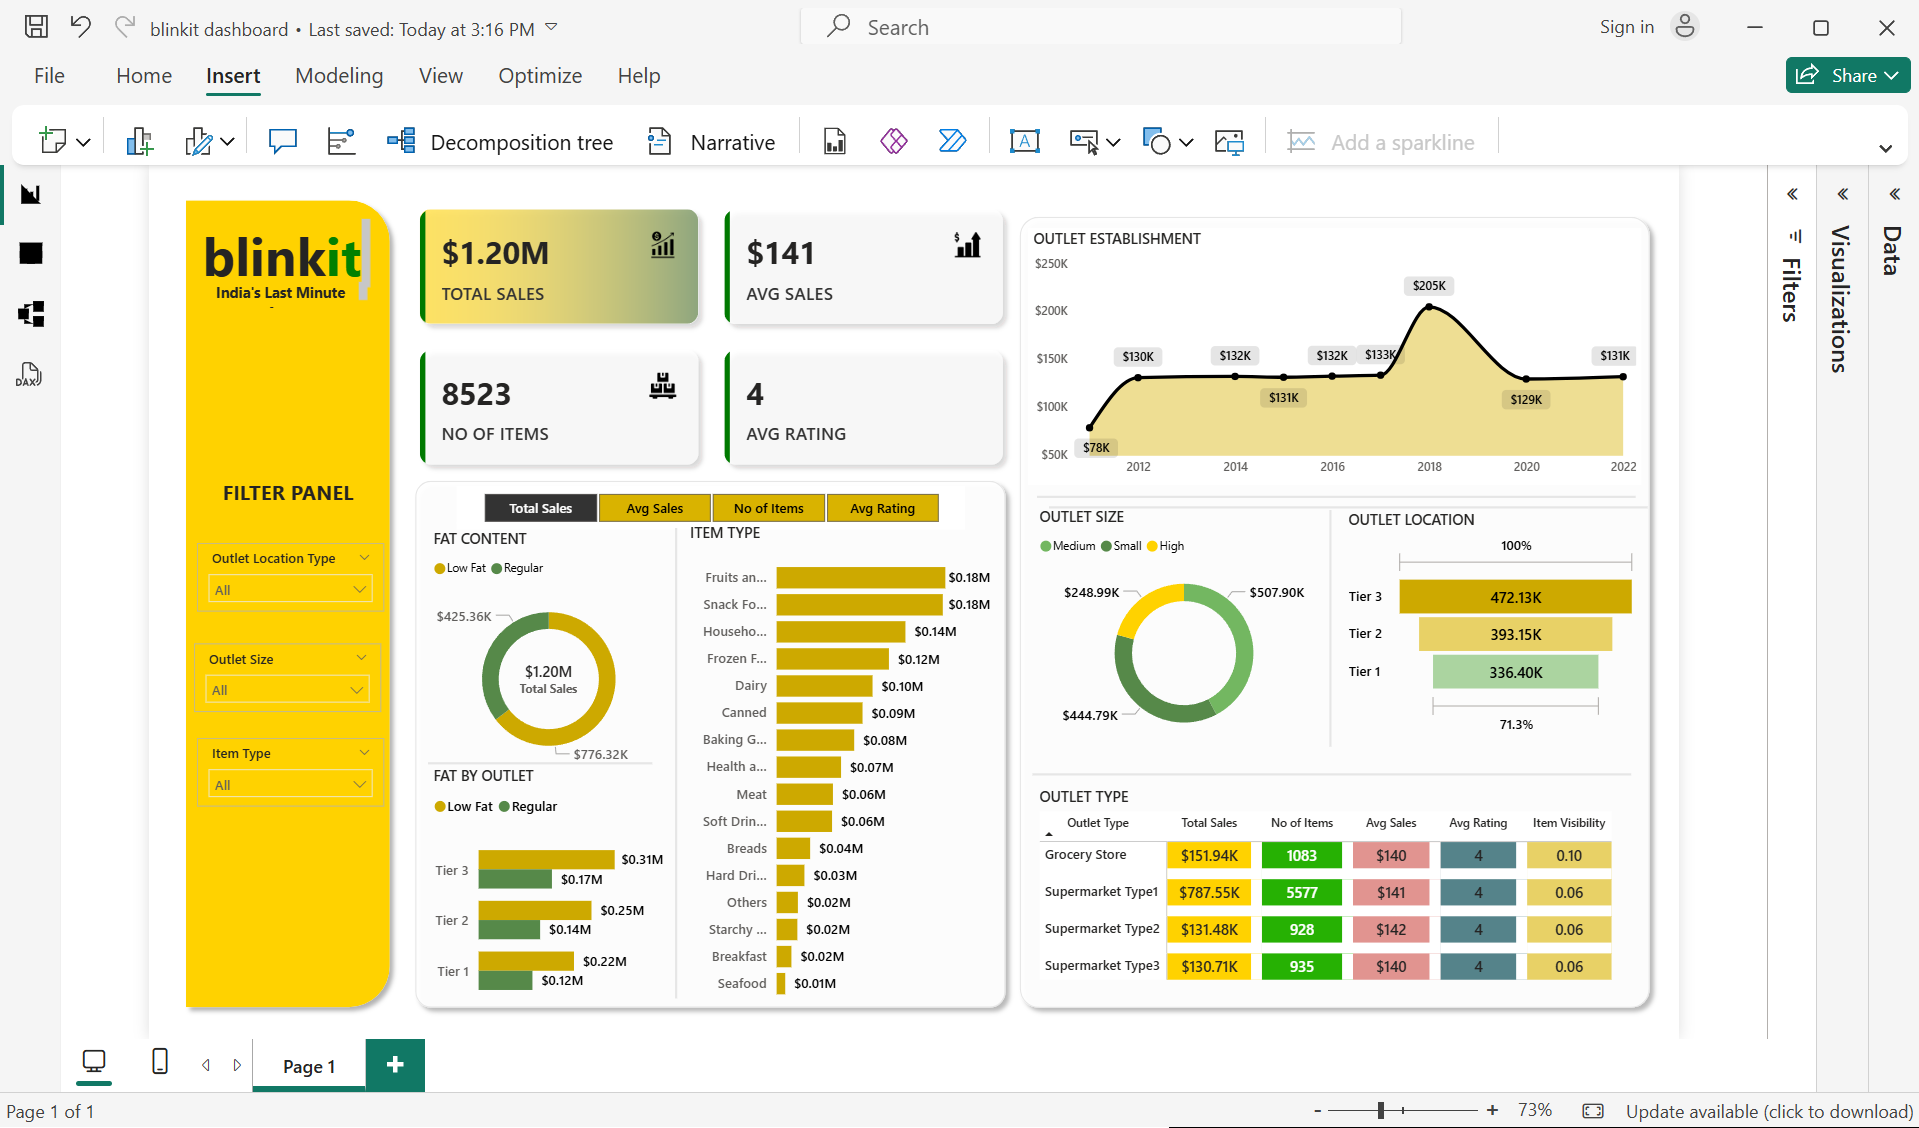

The dashboard page shown, as its layout file describes it:
{"tool":"powerbi","page":{"name":"Page 1","canvas":[1400,800],"ordinal":0},"visuals":[{"type":"shape","box":[24.8,22.7,204.6,756.5],"z":0},{"type":"textbox","box":[44.4,44.4,163.8,73.5],"z":1000},{"type":"textbox","box":[44.4,101,160.7,33.7],"z":2000},{"type":"cardVisual","fields":{"Data":["BlinkIT Grocery Data.Total Sales","BlinkIT Grocery Data.Avg Sales","BlinkIT Grocery Data.No of Items","BlinkIT Grocery Data.Avg Rating"]},"box":[230.2,23.2,569.7,270],"z":3000},{"type":"shape","box":[235.2,279.9,558.1,500.2],"z":4000},{"type":"slicer","title":"FAT CONTENT","fields":{"Values":["BlinkIT Grocery Data.Outlet Location Type"]},"box":[44.4,345.9,171.4,62.8],"z":5000},{"type":"slicer","fields":{"Values":["Metrics 2.Metrics"]},"box":[281.5,293.1,465.4,39.7],"z":6000},{"type":"cardVisual","fields":{"Data":["BlinkIT Grocery Data.Total Sales"]},"box":[318,437.2,94.4,62.9],"z":7000},{"type":"clusteredBarChart","title":"FAT BY OUTLET","fields":{"Y":["BlinkIT Grocery Data.Total Sales"],"Category":["BlinkIT Grocery Data.Outlet Location Type"],"Series":["BlinkIT Grocery Data.Item Fat Content"]},"box":[255.6,549.5,220.4,231.1],"z":8000},{"type":"shape","box":[255,533.3,205.4,29.8],"z":9000},{"type":"shape","box":[475.3,332.9,14.9,430.6],"z":10000},{"type":"barChart","title":"ITEM TYPE","fields":{"Y":["BlinkIT Grocery Data.Total Sales"],"Category":["BlinkIT Grocery Data.Item Type"]},"box":[490.2,326.3,284.9,447.2],"z":11000},{"type":"shape","box":[788.3,38.1,594.6,742],"z":12000},{"type":"lineChart","title":"OUTLET ESTABLISHMENT","fields":{"Category":["BlinkIT Grocery Data.Outlet Establishment Year"],"Y":["BlinkIT Grocery Data.Total Sales"]},"box":[804.9,58,561.4,235.2],"z":13000},{"type":"shape","box":[813.2,293.1,548.2,19.9],"z":14000},{"type":"donutChart","title":"OUTLET SIZE","fields":{"Y":["BlinkIT Grocery Data.Total Sales"],"Category":["BlinkIT Grocery Data.Outlet Size"]},"box":[809.7,312.3,274,225],"z":15000},{"type":"shape","box":[1076.5,316.3,9.9,217],"z":16000},{"type":"funnel","title":"OUTLET LOCATION","fields":{"Y":["Sum(BlinkIT Grocery Data.Sales)"],"Category":["BlinkIT Grocery Data.Outlet Location Type"]},"box":[1092.9,313.8,274,211.2],"z":17000},{"type":"shape","box":[808.2,548.2,548.2,19.9],"z":18000},{"type":"pivotTable","title":"OUTLET TYPE","fields":{"Rows":["BlinkIT Grocery Data.Outlet Type"],"Values":["BlinkIT Grocery Data.Total Sales","BlinkIT Grocery Data.No of Items","BlinkIT Grocery Data.Avg Sales","BlinkIT Grocery Data.Avg Rating","Avg(BlinkIT Grocery Data.Item Visibility)"]},"box":[809.9,568.1,551.5,200.4],"z":19000},{"type":"shape","box":[823.2,303.1,548.2,19.9],"z":20000},{"type":"slicer","title":"FAT CONTENT","fields":{"Values":["BlinkIT Grocery Data.Outlet Size"]},"box":[41.3,437.8,171.4,62.8],"z":21000},{"type":"slicer","title":"FAT CONTENT","fields":{"Values":["BlinkIT Grocery Data.Item Type"]},"box":[44.4,525,171.4,62.8],"z":22000},{"type":"donutChart","title":"FAT CONTENT","fields":{"Y":["BlinkIT Grocery Data.Total Sales"],"Category":["BlinkIT Grocery Data.Item Fat Content"]},"box":[255.6,332.1,220.4,231.1],"z":23000},{"type":"textbox","box":[56.6,281.6,142.3,35.2],"z":24000}]}

Visuals, with their boxes on the page's 1400x800 design canvas (x1, y1, x2, y2). These are canvas units, not pixel positions in the 1919x1128 screenshot, which may show the page scaled, cropped or inside an application window:
shape: (x1=25, y1=23, x2=229, y2=779)
textbox: (x1=44, y1=44, x2=208, y2=118)
textbox: (x1=44, y1=101, x2=205, y2=135)
cardVisual - BlinkIT Grocery Data.Total Sales x BlinkIT Grocery Data.Avg Sales: (x1=230, y1=23, x2=800, y2=293)
shape: (x1=235, y1=280, x2=793, y2=780)
"FAT CONTENT" slicer: (x1=44, y1=346, x2=216, y2=409)
slicer - Metrics 2.Metrics: (x1=282, y1=293, x2=747, y2=333)
cardVisual - BlinkIT Grocery Data.Total Sales: (x1=318, y1=437, x2=412, y2=500)
"FAT BY OUTLET" clusteredBarChart: (x1=256, y1=550, x2=476, y2=781)
shape: (x1=255, y1=533, x2=460, y2=563)
shape: (x1=475, y1=333, x2=490, y2=764)
"ITEM TYPE" barChart: (x1=490, y1=326, x2=775, y2=774)
shape: (x1=788, y1=38, x2=1383, y2=780)
"OUTLET ESTABLISHMENT" lineChart: (x1=805, y1=58, x2=1366, y2=293)
shape: (x1=813, y1=293, x2=1361, y2=313)
"OUTLET SIZE" donutChart: (x1=810, y1=312, x2=1084, y2=537)
shape: (x1=1076, y1=316, x2=1086, y2=533)
"OUTLET LOCATION" funnel: (x1=1093, y1=314, x2=1367, y2=525)
shape: (x1=808, y1=548, x2=1356, y2=568)
"OUTLET TYPE" pivotTable: (x1=810, y1=568, x2=1361, y2=768)
shape: (x1=823, y1=303, x2=1371, y2=323)
"FAT CONTENT" slicer: (x1=41, y1=438, x2=213, y2=501)
"FAT CONTENT" slicer: (x1=44, y1=525, x2=216, y2=588)
"FAT CONTENT" donutChart: (x1=256, y1=332, x2=476, y2=563)
textbox: (x1=57, y1=282, x2=199, y2=317)
